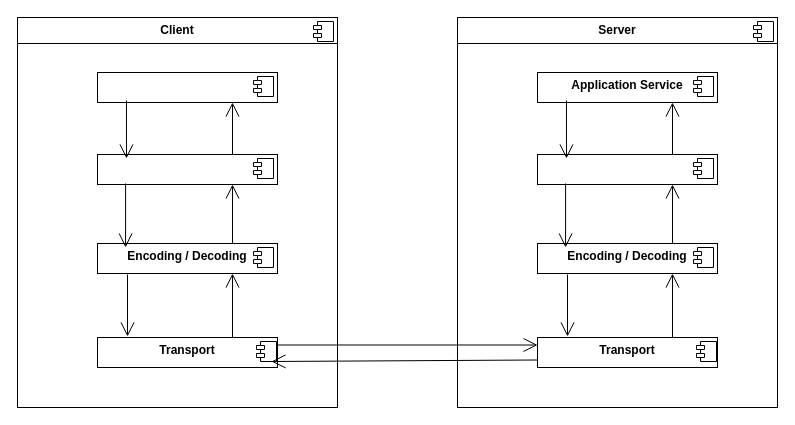
Image size: 795x425. Some labels were removed from this diagram. Each missing label, with the centre of its shape:
ClientApp: the point at 187,87
Proxy Service Stub: the point at 187,169
Server Stub: the point at 627,169
